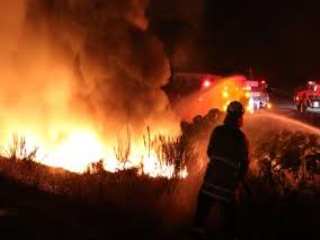fire: (17, 93, 178, 174)
smoke: (10, 6, 257, 101)
